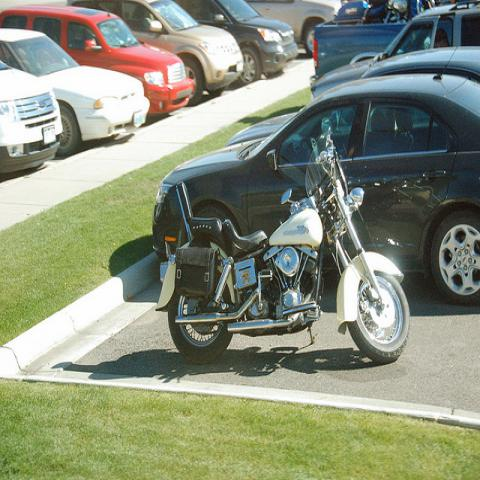car: (150, 70, 479, 309), (225, 43, 479, 147), (2, 1, 192, 113), (0, 28, 152, 158), (68, 2, 244, 106), (306, 1, 479, 97), (176, 1, 300, 87), (0, 58, 63, 172), (249, 0, 337, 58)
motorcycle: (154, 110, 412, 364)
truck: (312, 0, 461, 77)
